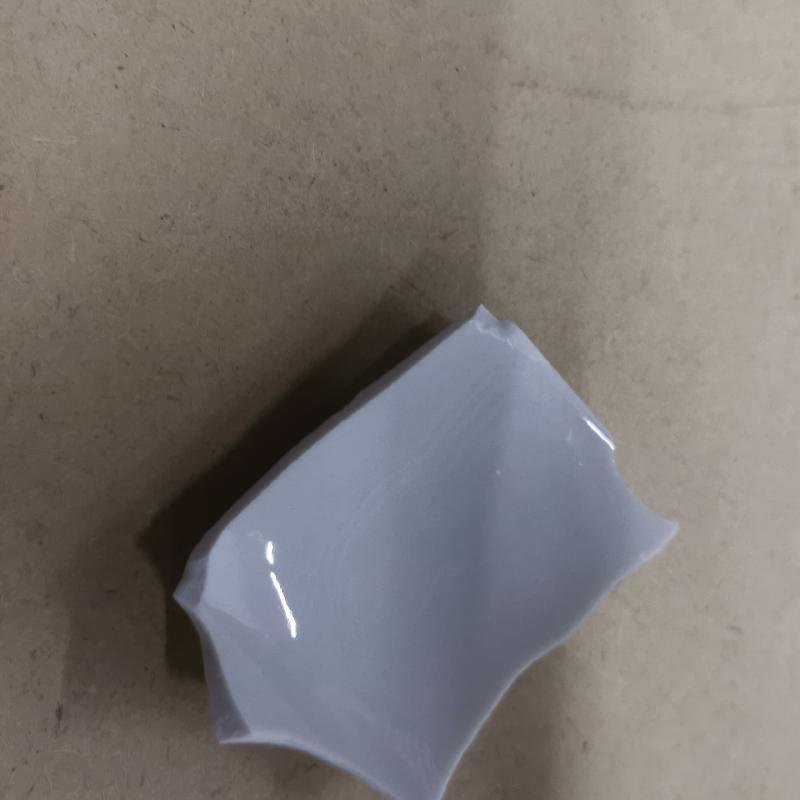ceram: (167, 299, 686, 800)
